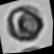correct: (4, 0, 49, 47)
